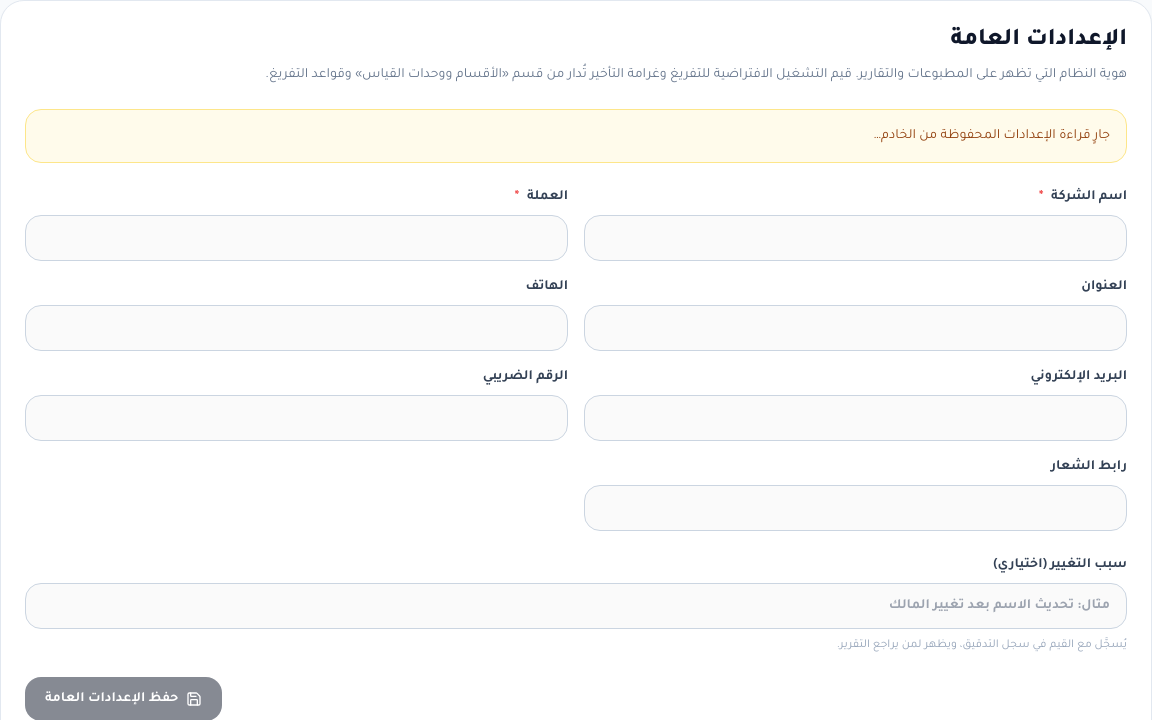
Test case: GeneralSettings › does not let a server value overwrite what was typed while the load was in flight
Type "اسم كتبه المستخدم" into the field labelled "اسم الشركة *".
click(856, 238); type("اسم كتبه المستخدم")  # box [584,215,1127,261]
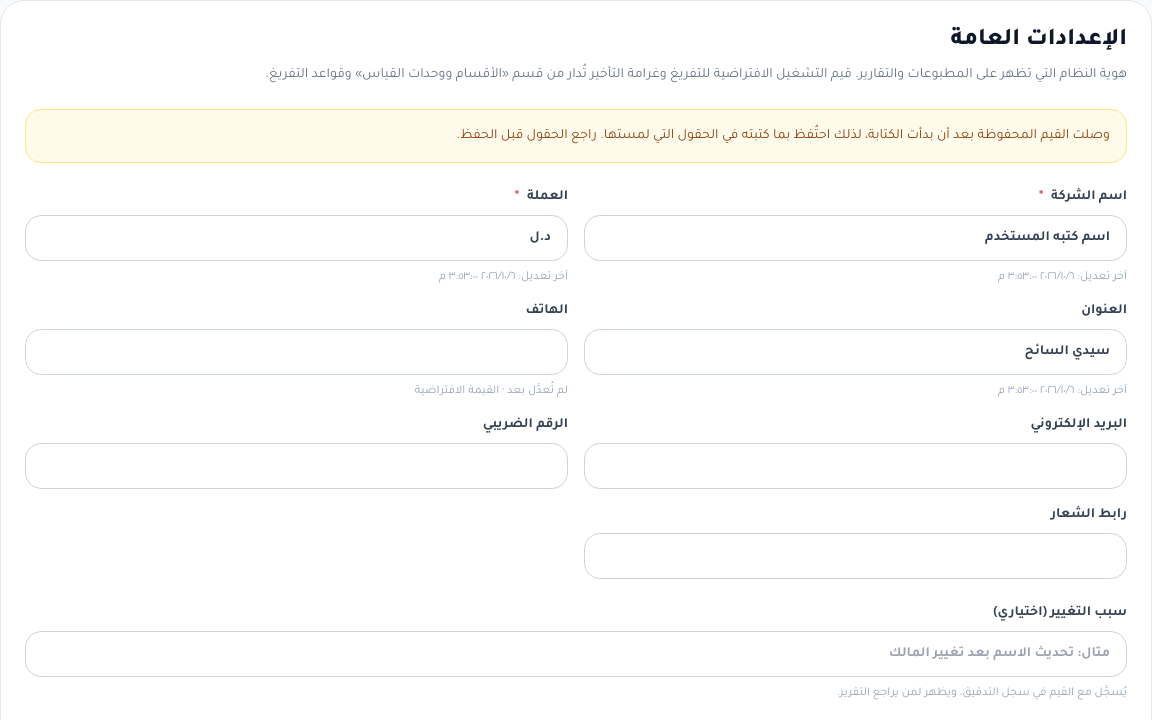
Check: the text "وصلت القيم المحفوظة بعد أن بدأت الكتابة" is shown, box [456,129,1110,143]
